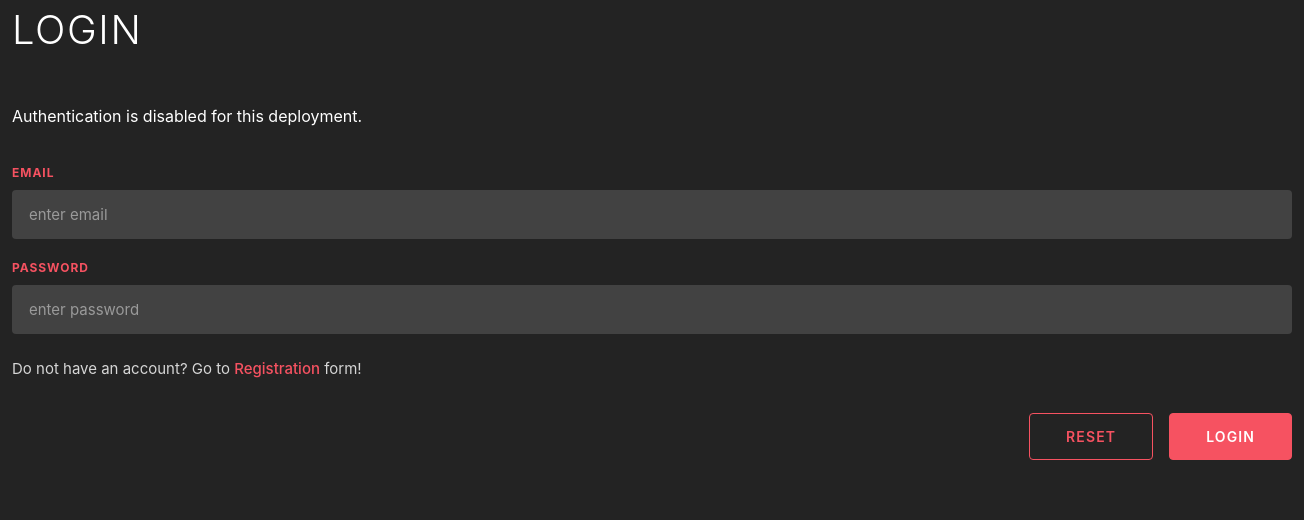
UserForm Component › login form › validates empty fields on form submission
This screenshot has width=1304, height=520.
Click the button "LOGIN" at [1231, 436], box [1169,413,1292,460]
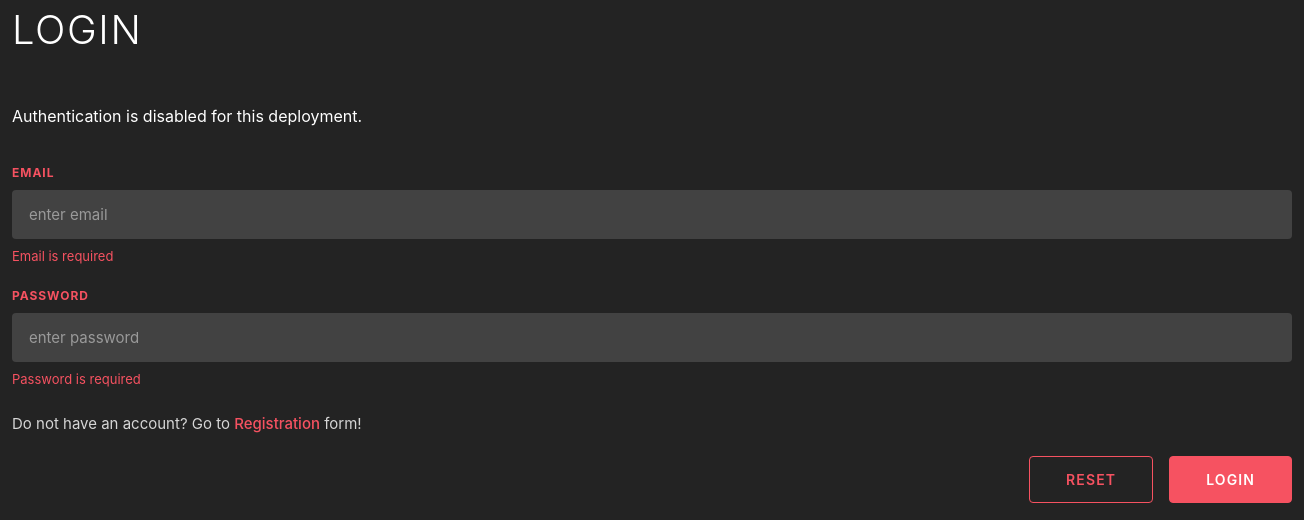
Check: the text "Email is required" is shown 2 times, box [12,248,113,264]; [12,370,141,386]
